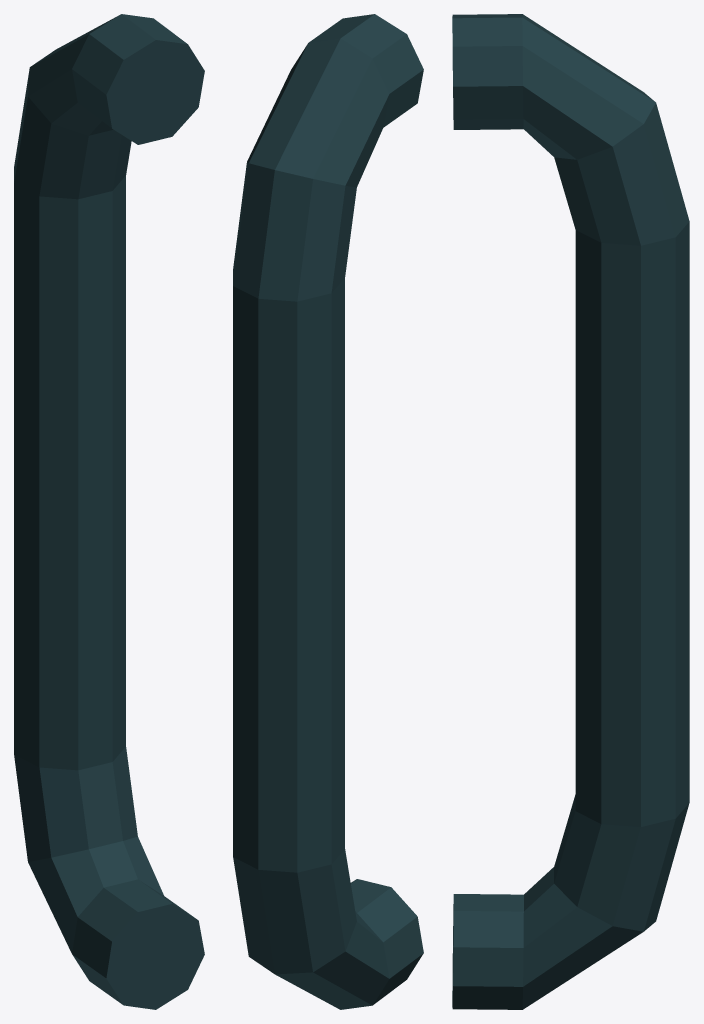
Rendered from PipeD_Hangar.fbx.
3 renders of one model, left to right at view 1: azimuth 30°, elevation 25°; view 2: azimuth 150°, elevation 25°; view 3: azimuth 270°, elevation 25°, orthographic.
Visible parts, largest first — view 1: Pipe D; view 2: Pipe D; view 3: Pipe D.
Part boxes in pixels (x1,y1,x2,y2): Pipe D: (14,14,204,1009); Pipe D: (233,14,423,1009); Pipe D: (452,14,689,1009).
Bounding box in the file's own units: 109 × 1027 × 223.
